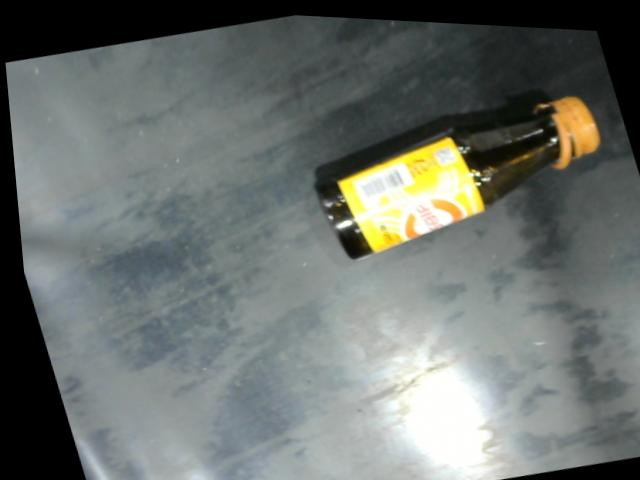glass: (294, 74, 626, 274)
